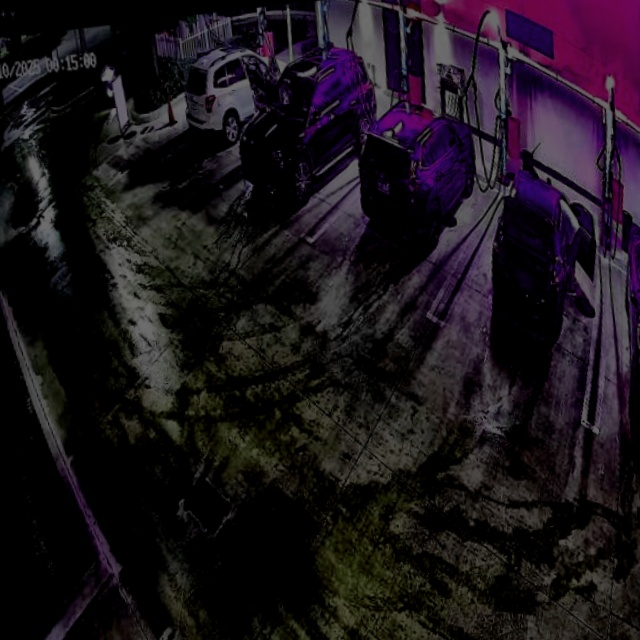Car: (228, 37, 382, 200), (345, 77, 484, 253)
